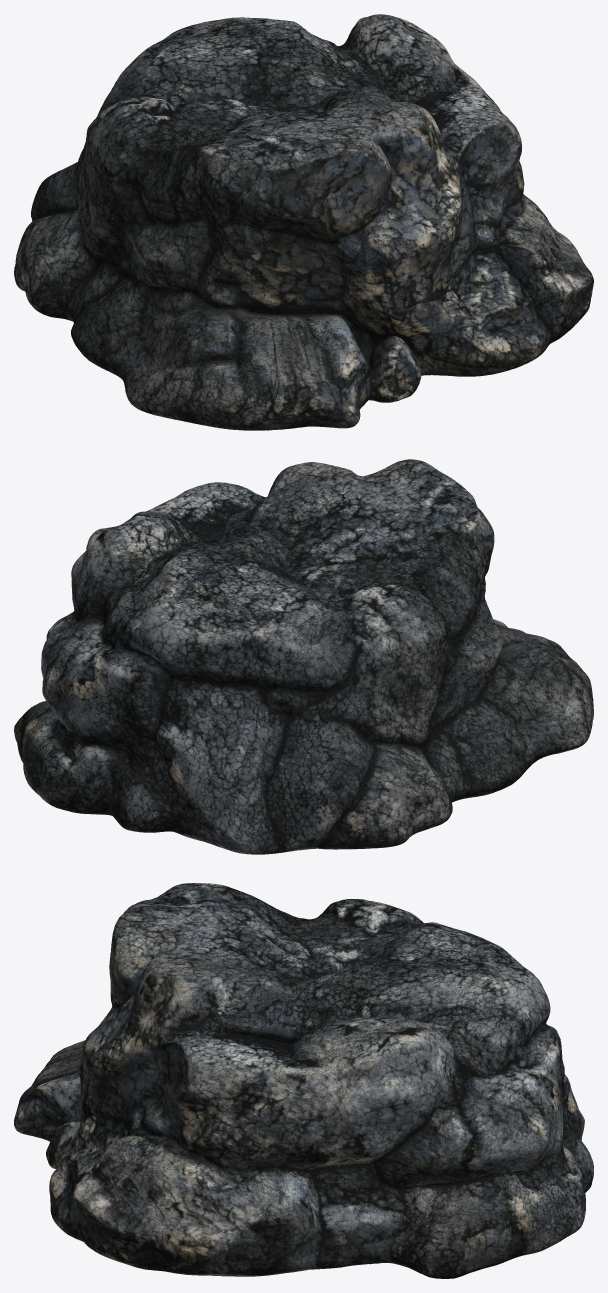
The model's file is avatar2.optimized.glb.
The picture shows the model from 3 angles, top to bottom: view 1: azimuth 30°, elevation 25°; view 2: azimuth 150°, elevation 25°; view 3: azimuth 270°, elevation 25°; orthographic projection. The views are drawn at different scales.
Size of the model in its own units: 1.77 by 0.8498 by 1.9.
1 material, 1 textured.
